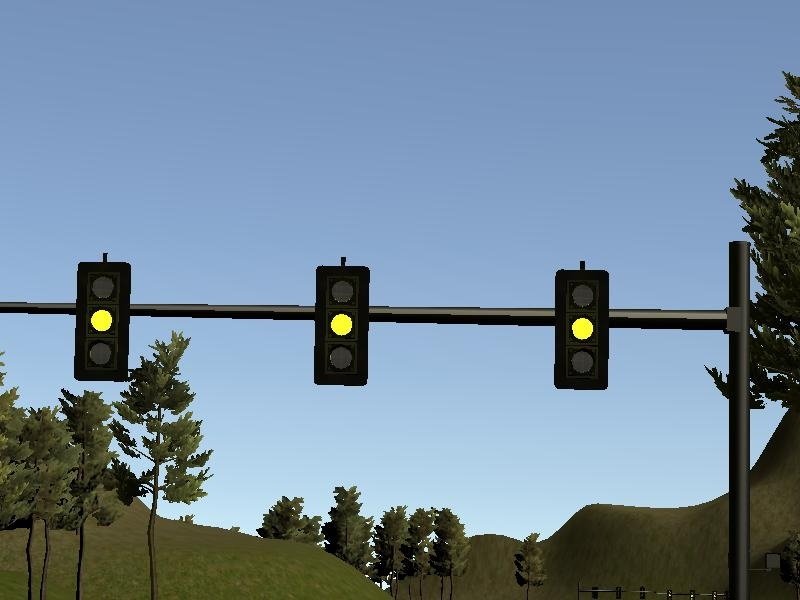YELLOW: (72, 262, 132, 383), (313, 265, 373, 386), (549, 269, 609, 390)
